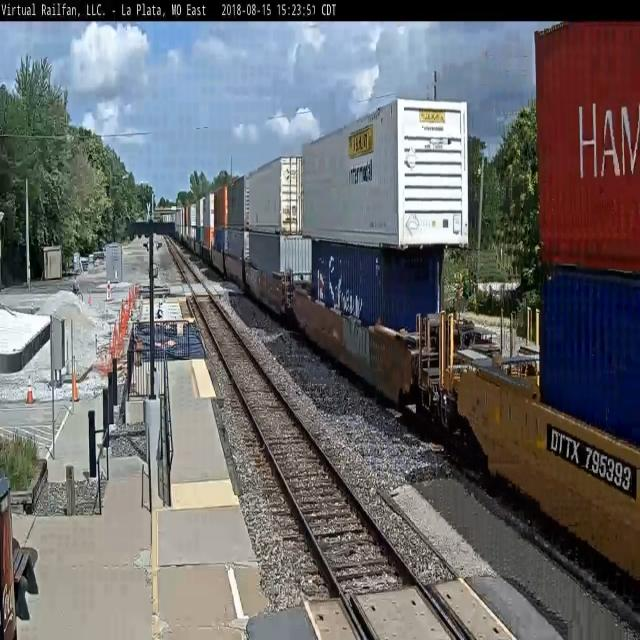container: (296, 91, 474, 255), (532, 13, 640, 272), (537, 260, 640, 454), (307, 227, 444, 339), (246, 154, 303, 235)
flatcar: (451, 346, 640, 573), (291, 276, 454, 422)
